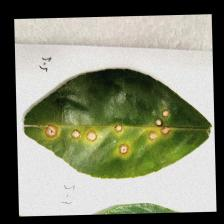canker: (35, 95, 175, 159)
